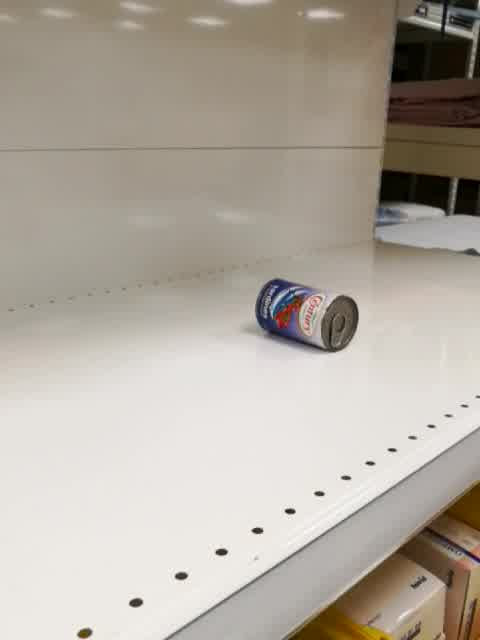sardine: (252, 278, 360, 353)
